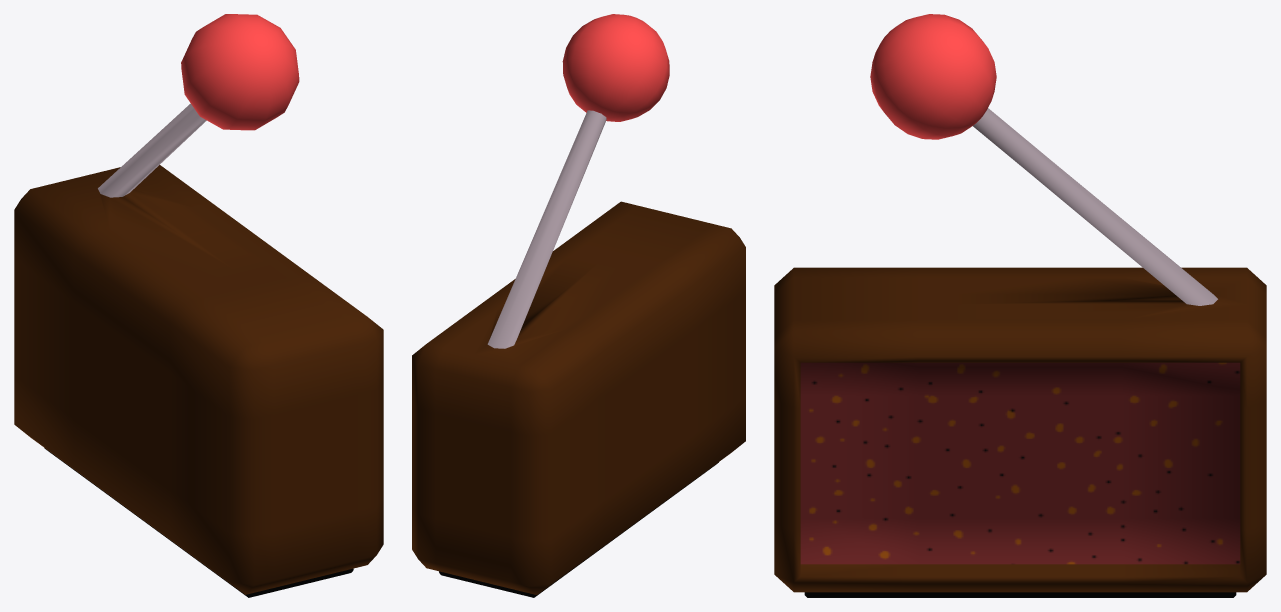
The model's file is model_radio_standard.fbx.
The picture shows the model from 3 angles, left to right: view 1: azimuth 30°, elevation 25°; view 2: azimuth 150°, elevation 25°; view 3: azimuth 270°, elevation 25°; orthographic projection. The views are drawn at different scales.
Parts seen in each view (by area): view 1: mesh_radio, mesh_ball_off; view 2: mesh_radio, mesh_ball_off; view 3: mesh_radio, mesh_ball_off.
Boxes of the visible parts, x1,y1,x2,y2 form: mesh_radio: (14, 103, 383, 597); mesh_ball_off: (181, 14, 299, 130); mesh_radio: (412, 110, 745, 597); mesh_ball_off: (562, 14, 669, 121); mesh_radio: (774, 108, 1266, 597); mesh_ball_off: (870, 14, 996, 139).
Size of the model in its own units: 76.18 by 247 by 200.
